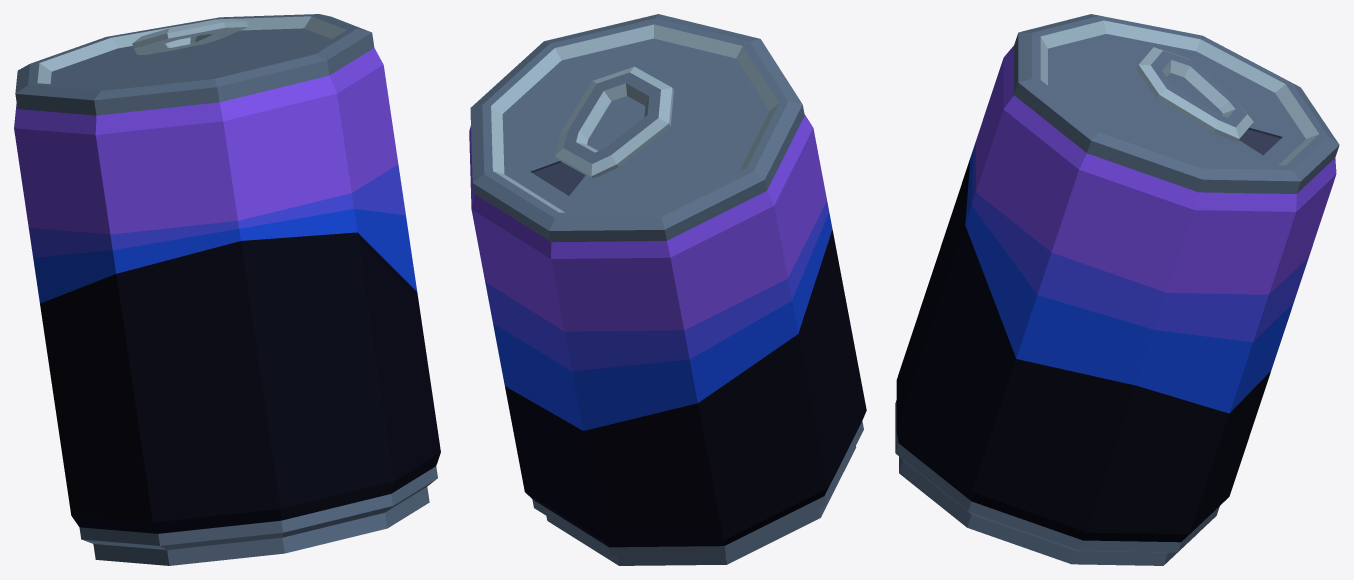
The model's file is DrSwerve.Classic.fbx.
3 views of the same model, side by side, from view 1: azimuth 30°, elevation 25°; view 2: azimuth 150°, elevation 25°; view 3: azimuth 270°, elevation 25° (orthographic). The views are drawn at different scales.
Parts seen in each view (by area): view 1: DrSwerve.Classic; view 2: DrSwerve.Classic; view 3: DrSwerve.Classic.
Boxes of the visible parts, box(x1,y1,x2,y2) form: DrSwerve.Classic: box(14, 14, 440, 565); DrSwerve.Classic: box(469, 14, 866, 565); DrSwerve.Classic: box(895, 14, 1339, 565).
Size of the model in its own units: 40.41 by 60.14 by 50.87.
